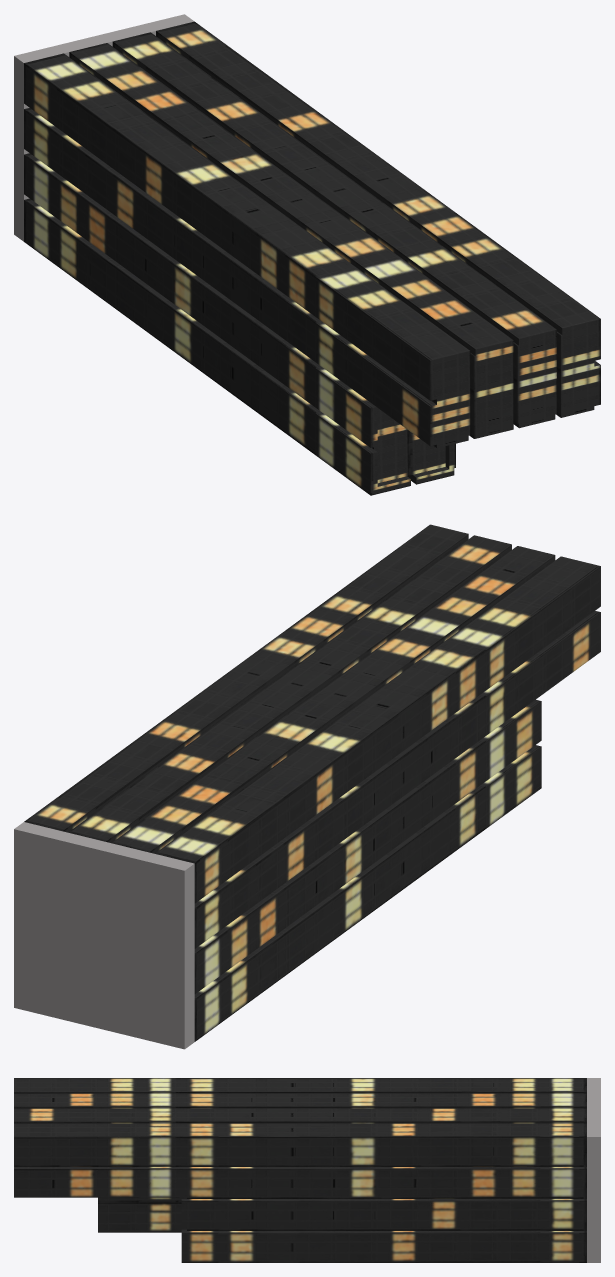
File: 2001Real.obj
3 renders of one model, top to bottom at view 1: azimuth 30°, elevation 25°; view 2: azimuth 150°, elevation 25°; view 3: azimuth 270°, elevation 25°, orthographic. The views are drawn at different scales.
Visible parts, largest first — view 1: object_1, object_2; view 2: object_1, object_2; view 3: object_1, object_2.
Part boxes in pixels (bbox=[...]): object_1: bbox=[24, 21, 600, 495]; object_2: bbox=[14, 14, 194, 241]; object_1: bbox=[24, 524, 600, 1041]; object_2: bbox=[14, 822, 194, 1049]; object_1: bbox=[14, 1078, 586, 1262]; object_2: bbox=[587, 1078, 600, 1262].
Bounding box in the file's own units: 3.19 × 3.19 × 13.49.
